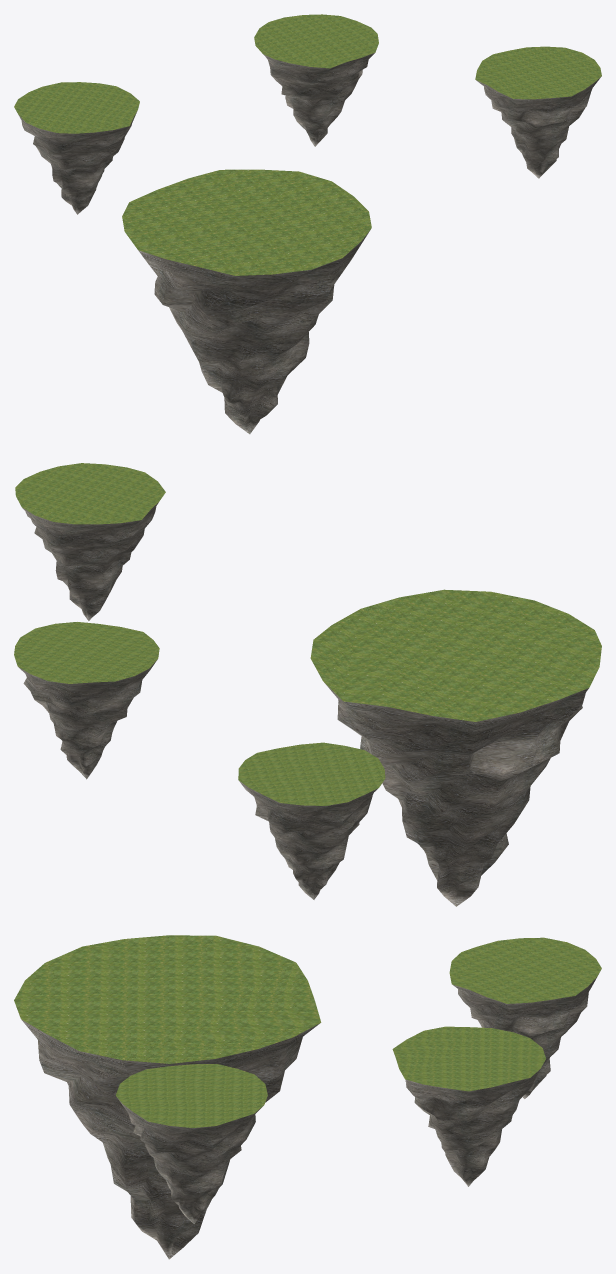
The model's file is Sky Island.fbx.
The picture shows the model from 3 angles, top to bottom: view 1: azimuth 30°, elevation 25°; view 2: azimuth 150°, elevation 25°; view 3: azimuth 270°, elevation 25°; orthographic projection. The views are drawn at different scales.
Parts seen in each view (by area): view 1: pCone4, pCone1, pCone2, pCone3; view 2: pCone4, pCone1, pCone3, pCone2; view 3: pCone4, pCone2, pCone1, pCone3.
Boxes of the visible parts, <box> form: pCone4: <box>122,169,371,434</box>; pCone1: <box>475,46,601,178</box>; pCone2: <box>254,14,378,146</box>; pCone3: <box>14,82,139,214</box>; pCone4: <box>310,589,601,906</box>; pCone1: <box>15,463,165,620</box>; pCone3: <box>238,742,385,899</box>; pCone2: <box>14,622,159,779</box>; pCone4: <box>14,935,321,1259</box>; pCone2: <box>392,1026,545,1186</box>; pCone1: <box>115,1064,267,1223</box>; pCone3: <box>449,937,601,1098</box>.
Bounding box in the file's own units: 6976 × 4039 × 6256.
2 materials, 2 textured.
